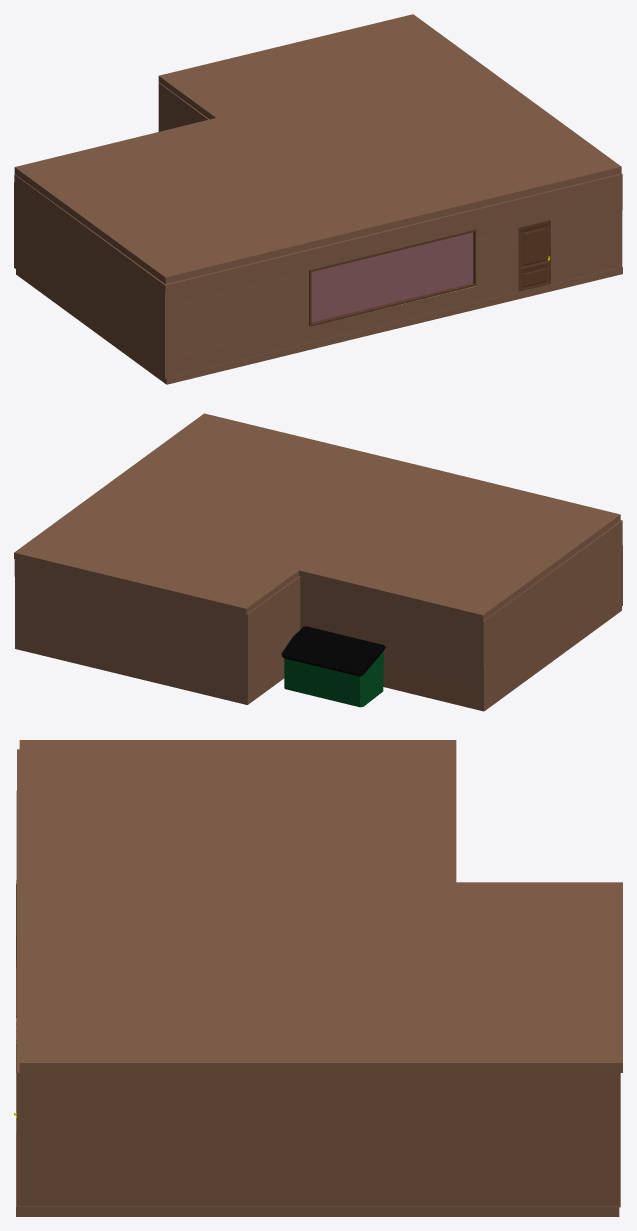
The model's file is Shop.glb.
3 renders of one model, top to bottom at view 1: azimuth 30°, elevation 25°; view 2: azimuth 150°, elevation 25°; view 3: azimuth 270°, elevation 25°, orthographic. The views are drawn at different scales.
Visible parts, largest first — view 1: Celing, Wall, Floor, Window, Door.001; view 2: Celing, Wall, Dumpster, Floor; view 3: Celing, Wall, Floor.
Boxes of the visible parts, bbox=[...] form: Celing: bbox=[14, 14, 621, 284]; Wall: bbox=[14, 82, 622, 378]; Floor: bbox=[16, 232, 622, 384]; Window: bbox=[309, 229, 476, 326]; Door.001: bbox=[518, 220, 550, 291]; Celing: bbox=[14, 413, 620, 621]; Wall: bbox=[14, 520, 622, 706]; Dumpster: bbox=[281, 626, 385, 707]; Floor: bbox=[15, 607, 621, 711]; Celing: bbox=[19, 740, 622, 1072]; Wall: bbox=[16, 749, 620, 1207]; Floor: bbox=[16, 884, 619, 1216].
Bounding box in the file's own units: 16.97 × 3.79 × 13.51.
